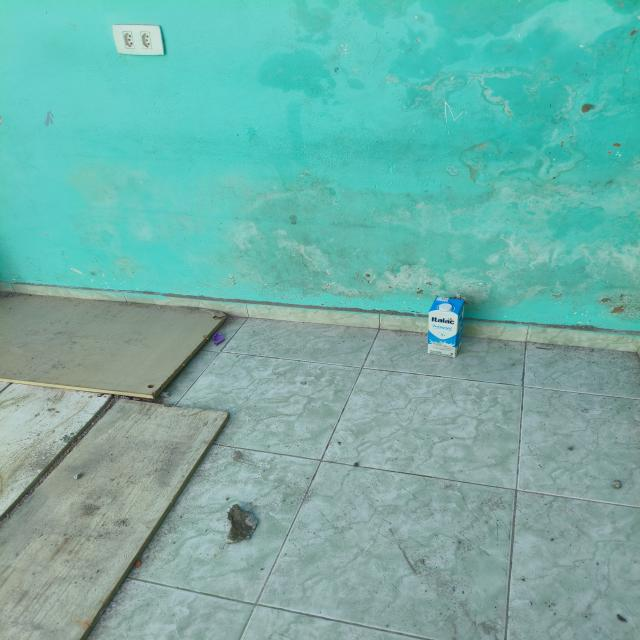Caixa de Leite: (425, 298, 465, 361)
